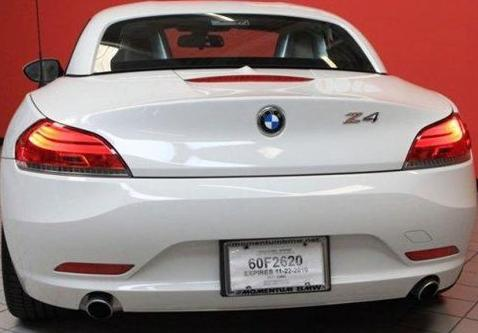back_view: (0, 93, 473, 316)
backlight: (10, 117, 138, 182)
